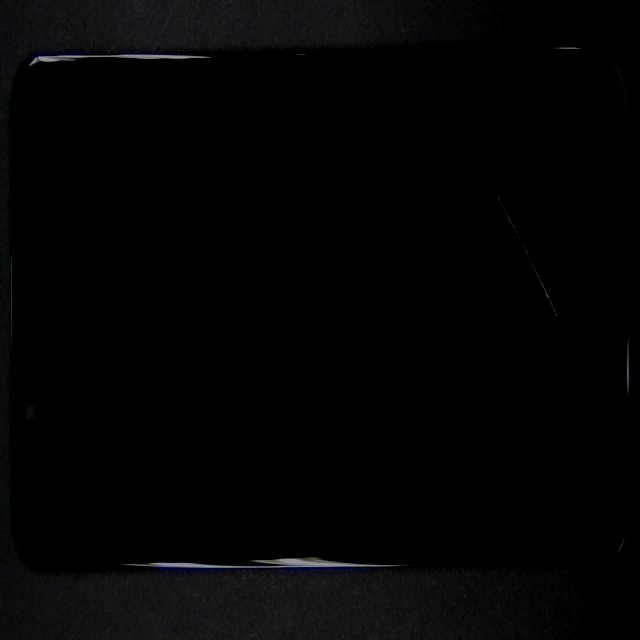scratch: (263, 59, 640, 249)
